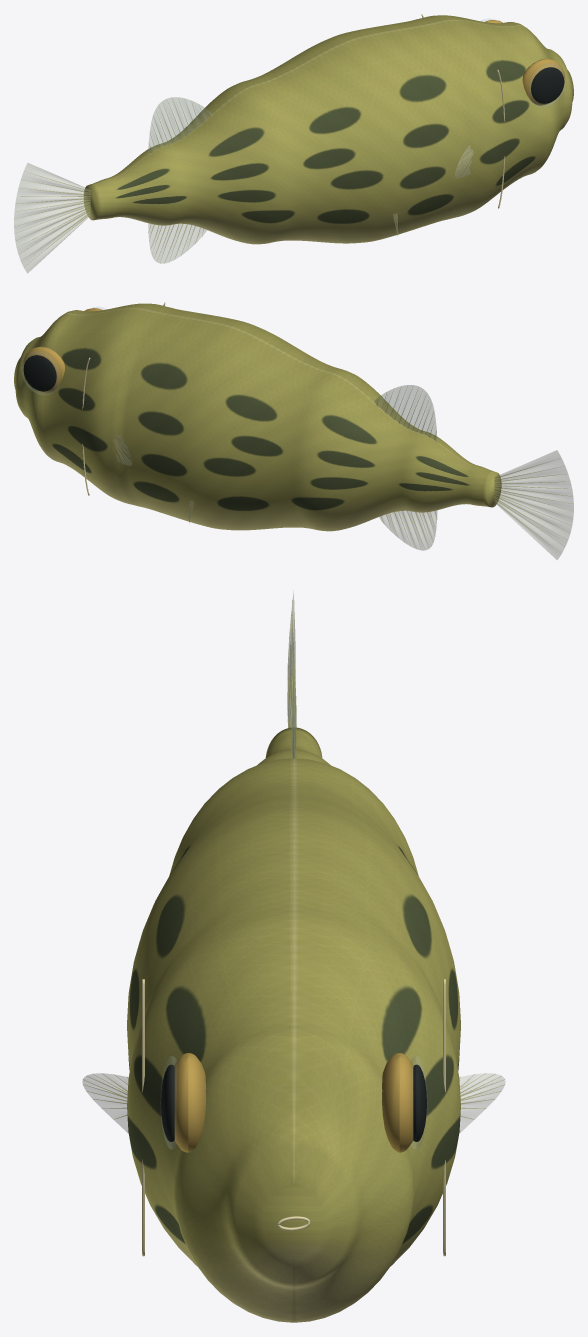
File: dwarfbuffer-desktop.glb
The picture shows the model from 3 angles, top to bottom: view 1: azimuth 30°, elevation 25°; view 2: azimuth 150°, elevation 25°; view 3: azimuth 270°, elevation 25°; orthographic projection. The views are drawn at different scales.
Parts seen in each view (by area): view 1: skin, tail, dorsal, dorsal-ray, anal, eye-pupil--1, eye-iris--1, pectoral-left; view 2: skin, tail, dorsal, dorsal-ray, anal, eye-pupil--1, eye-iris--1, pectoral-left; view 3: skin, eye-iris--1, pectoral-left, eye-pupil--1, dorsal-ray, operculum.
Part boxes in pixels (x1,y1,x2,y2): skin: [83, 15, 573, 244]; tail: [14, 163, 90, 273]; dorsal: [148, 97, 211, 153]; dorsal-ray: [16, 99, 474, 261]; anal: [148, 223, 206, 263]; eye-pupil--1: [531, 67, 564, 103]; eye-iris--1: [485, 20, 565, 105]; pectoral-left: [455, 145, 473, 178]; skin: [14, 303, 501, 531]; tail: [495, 450, 573, 559]; dorsal: [374, 385, 437, 442]; dorsal-ray: [113, 386, 572, 551]; anal: [379, 510, 437, 550]; eye-pupil--1: [23, 355, 56, 391]; eye-iris--1: [22, 308, 102, 393]; pectoral-left: [114, 433, 131, 465]; skin: [127, 727, 460, 1322]; eye-iris--1: [174, 1053, 413, 1152]; pectoral-left: [82, 1073, 505, 1133]; eye-pupil--1: [161, 1064, 426, 1141]; dorsal-ray: [83, 600, 504, 1131]; operculum: [142, 979, 445, 1256].
Size of the model in its own units: 0.5972 by 0.204 by 0.1977.
Materials: 11 (1 with a texture image).
